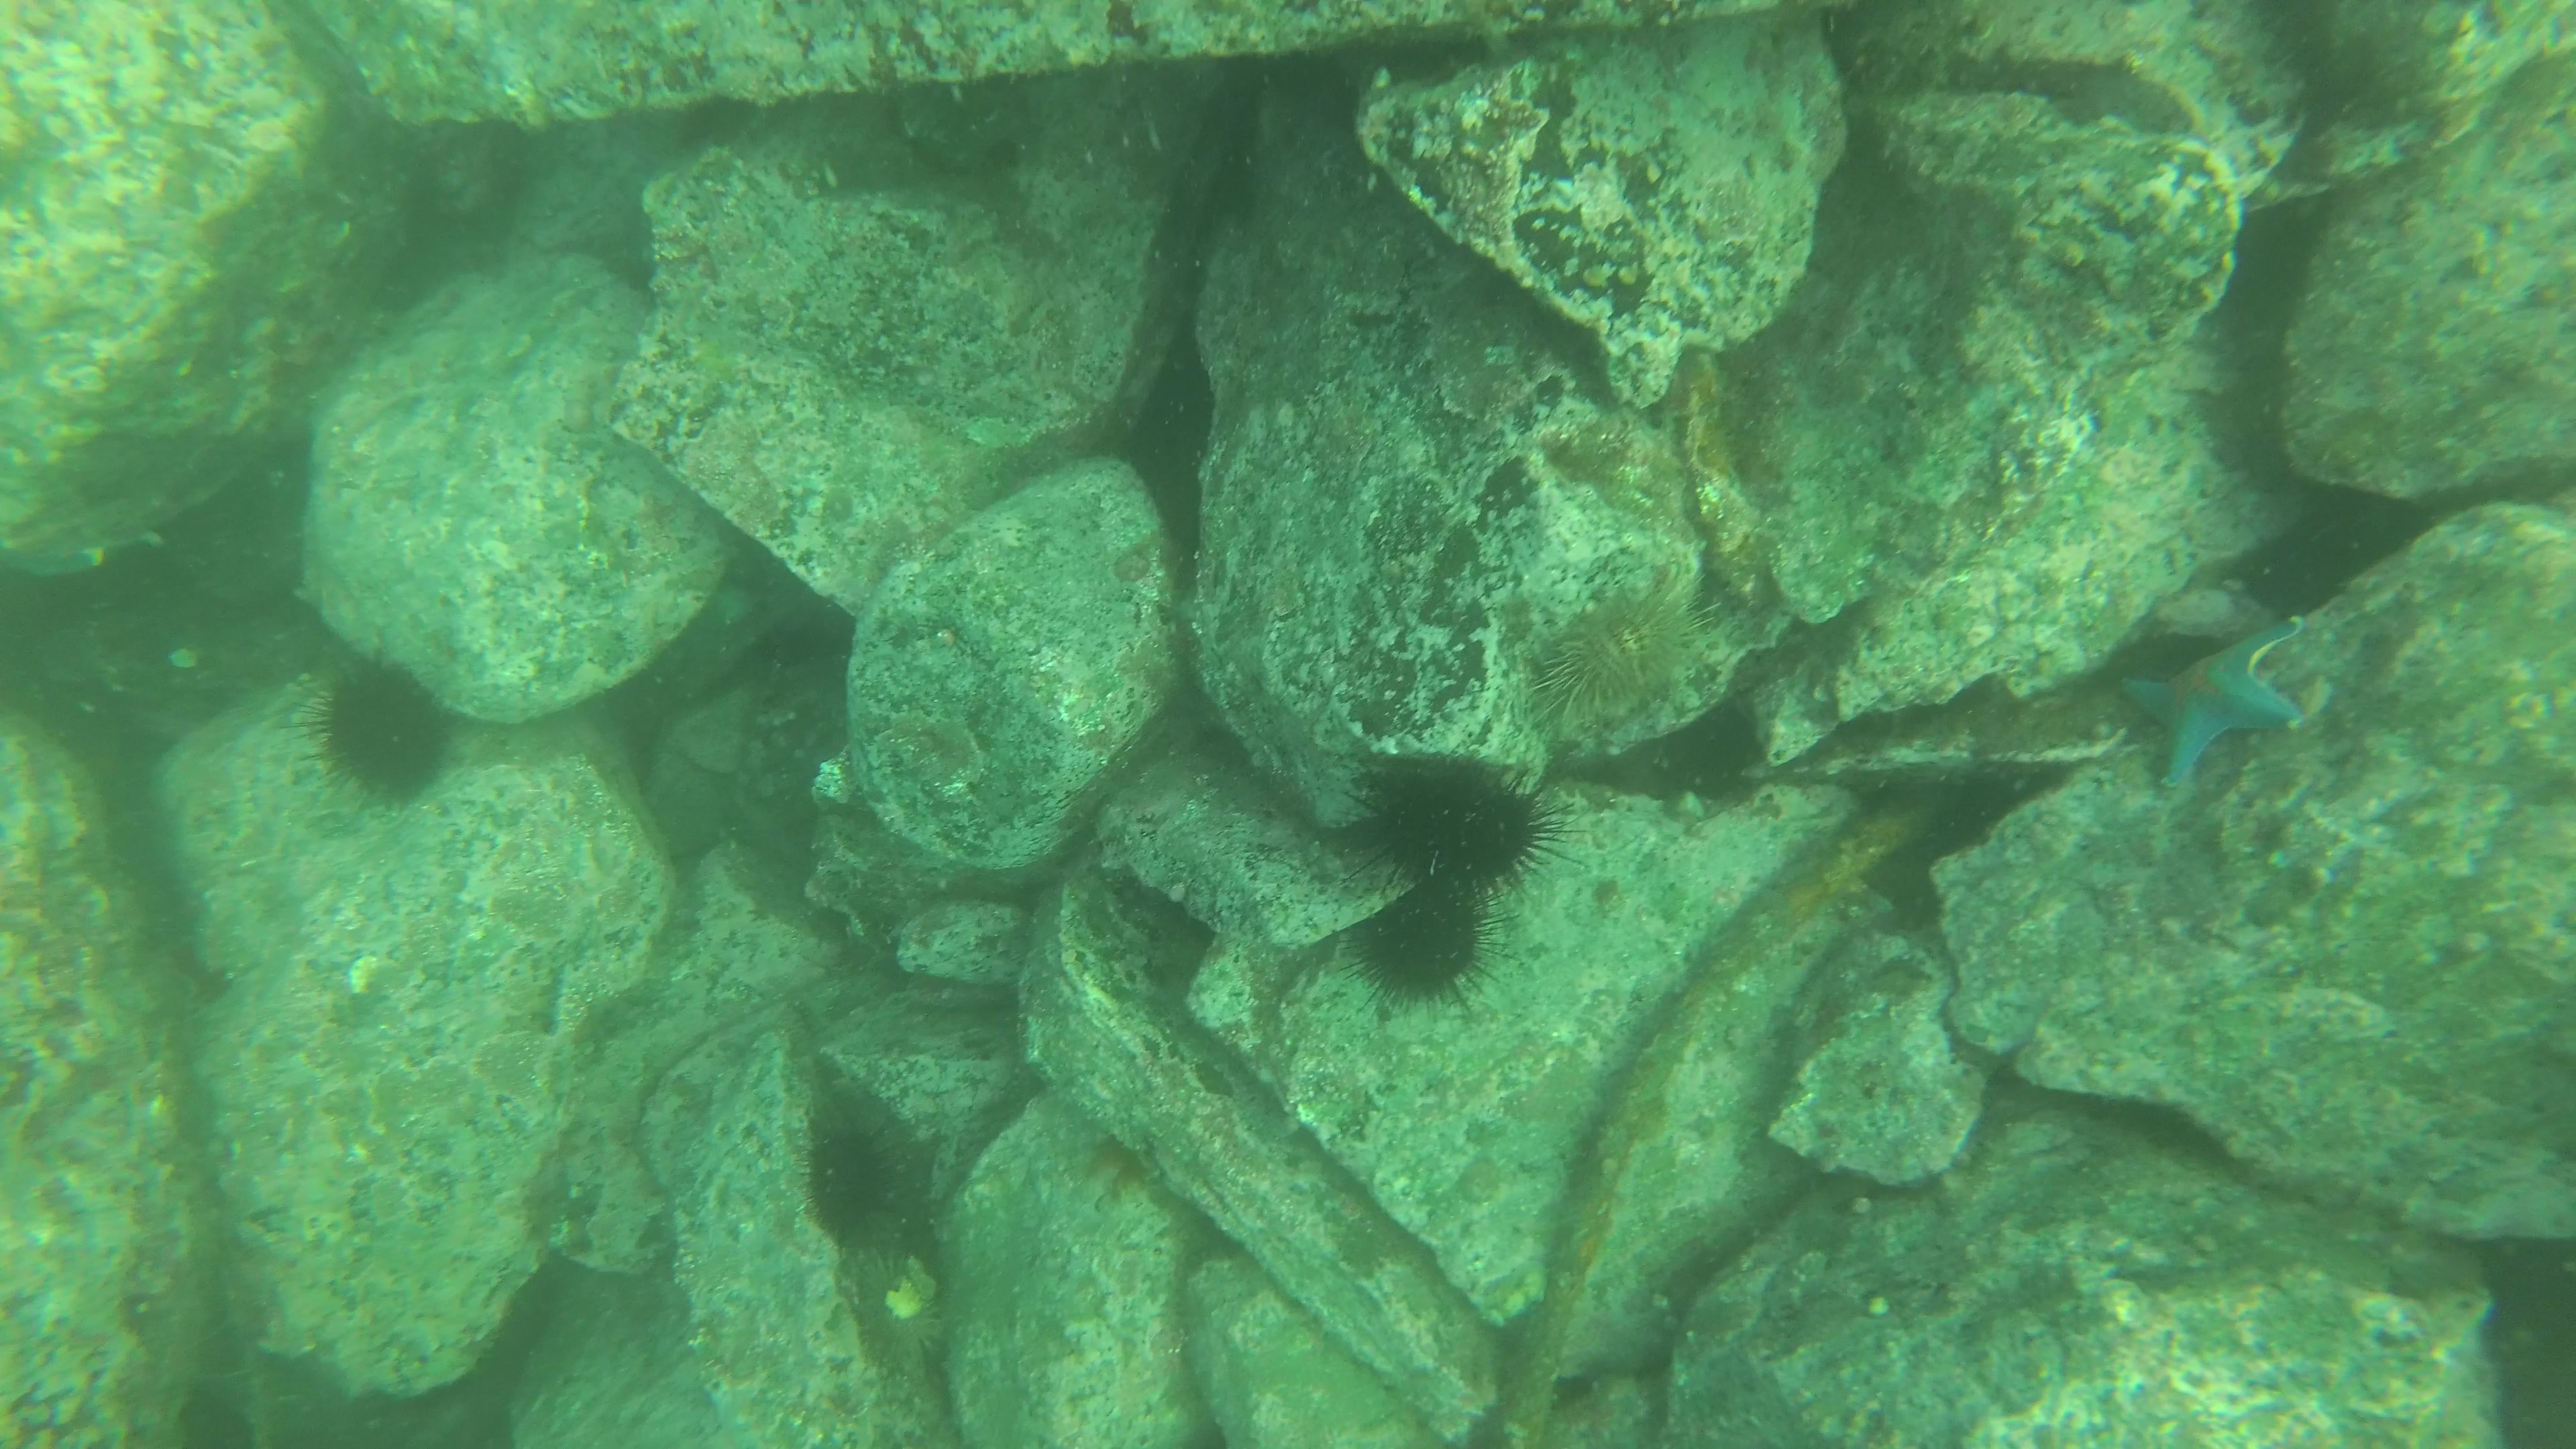echinus: (1359, 743, 1566, 893), (287, 651, 458, 812), (1529, 575, 1718, 720), (1346, 878, 1511, 1012), (794, 1120, 901, 1254)
starfish: (2120, 605, 2314, 787)
